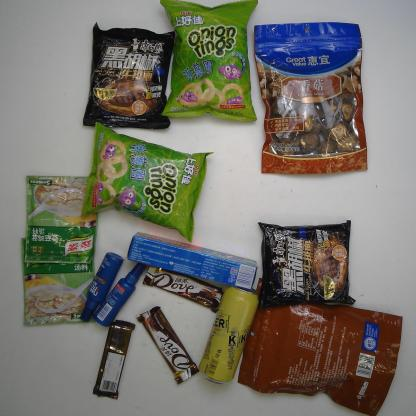Alcohol: (197, 283, 262, 385)
Chocolate: (134, 304, 202, 385), (143, 262, 228, 314), (90, 318, 136, 401)
Dried Food: (236, 275, 404, 416), (251, 17, 371, 177)
Instant Noodles: (78, 20, 180, 130), (253, 215, 358, 311)
Personal Hygiene: (124, 230, 258, 292), (93, 260, 148, 328), (79, 251, 126, 326)
Puffed Food: (76, 121, 214, 243), (158, 0, 259, 126)
Seasoner: (17, 233, 104, 330), (20, 169, 101, 266)
